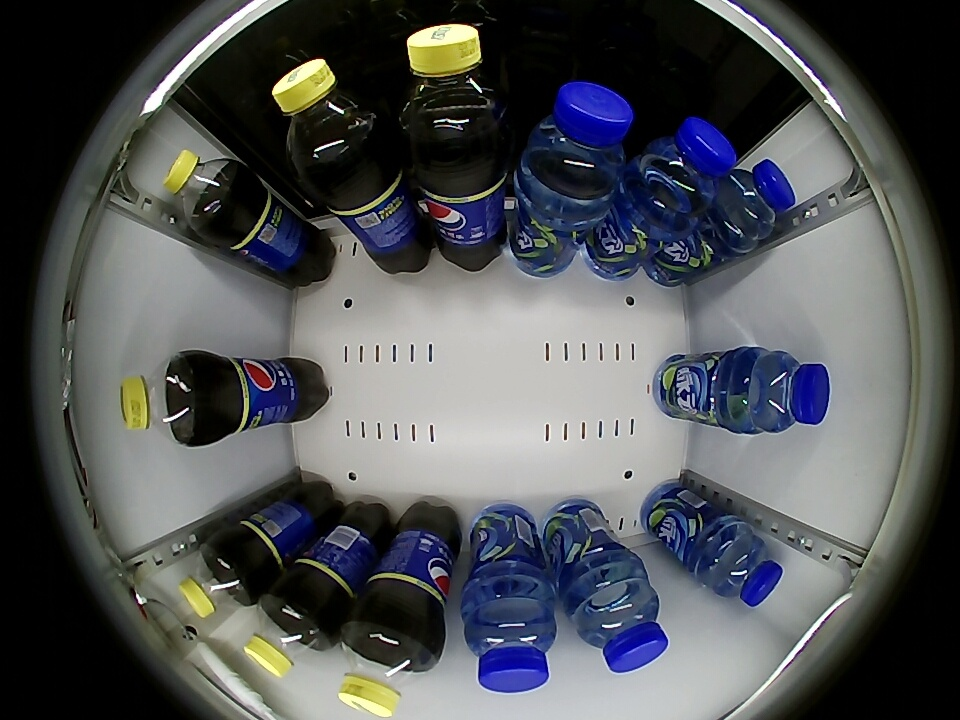baishikele: (395, 23, 510, 146), (271, 56, 381, 174), (337, 615, 440, 719), (119, 352, 204, 446), (243, 589, 332, 678), (162, 150, 243, 232), (178, 539, 257, 618)
maidong: (519, 80, 636, 205), (632, 116, 737, 222), (571, 572, 669, 675), (462, 593, 558, 694), (737, 349, 831, 434), (715, 159, 796, 242), (702, 527, 784, 608)
